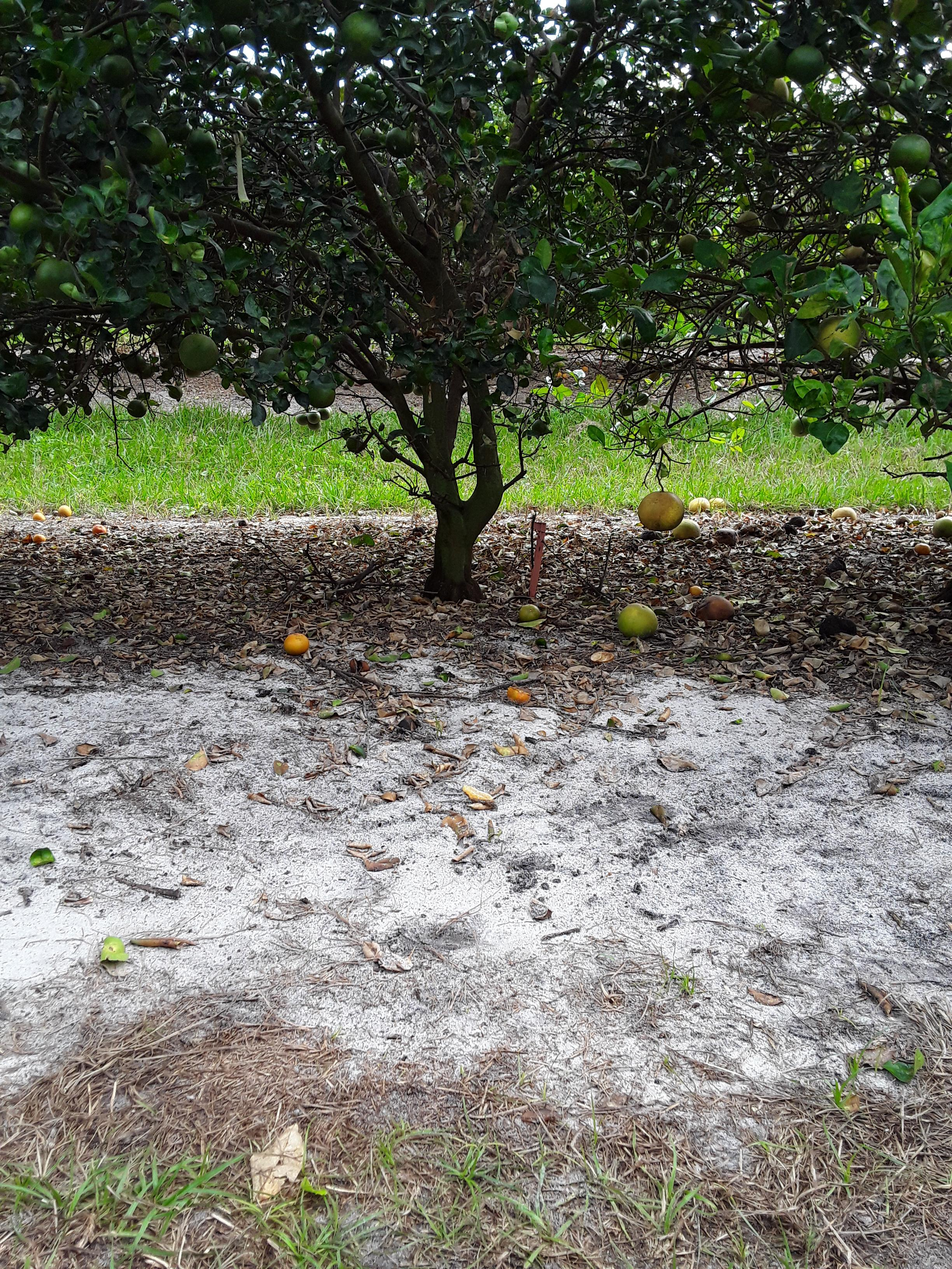fruit_on_ground: (340, 9, 388, 66), (115, 120, 173, 167), (816, 311, 866, 364), (635, 486, 690, 533), (98, 143, 146, 190), (785, 40, 831, 87), (744, 72, 789, 119), (3, 157, 50, 202), (889, 130, 934, 176), (34, 253, 79, 299), (172, 333, 226, 371), (9, 196, 51, 238), (903, 172, 944, 210), (99, 54, 136, 92), (185, 125, 221, 164), (756, 37, 791, 77), (299, 374, 338, 406), (759, 201, 800, 229), (256, 346, 298, 373), (385, 126, 417, 159), (835, 238, 873, 264), (729, 209, 762, 237), (499, 57, 530, 86), (214, 21, 246, 49), (847, 222, 880, 249), (631, 0, 667, 23), (860, 78, 889, 106), (0, 75, 29, 102), (565, 0, 598, 23), (359, 123, 385, 150), (833, 129, 860, 155), (30, 353, 56, 379), (674, 231, 698, 257), (125, 397, 150, 421), (240, 93, 265, 117), (733, 28, 756, 54), (736, 299, 759, 325), (229, 338, 253, 362), (789, 414, 812, 439), (379, 440, 399, 466), (531, 416, 550, 437), (621, 195, 642, 214), (630, 245, 651, 264), (655, 358, 683, 372), (697, 223, 715, 242), (372, 353, 391, 370), (617, 333, 637, 349), (632, 393, 654, 407), (347, 437, 365, 454), (617, 402, 637, 417), (398, 375, 413, 395), (554, 225, 572, 241), (618, 185, 637, 199), (307, 409, 323, 424), (296, 410, 308, 428), (321, 402, 336, 416), (307, 418, 322, 431), (318, 406, 330, 422), (413, 382, 425, 397)
fruit_on_tree: (616, 600, 665, 641), (817, 611, 863, 648), (696, 593, 737, 625), (671, 513, 704, 544), (281, 629, 313, 658), (712, 524, 749, 549), (504, 685, 534, 709), (829, 505, 860, 526), (928, 513, 952, 540), (687, 496, 715, 514), (518, 603, 541, 623), (786, 510, 808, 530), (911, 541, 933, 561), (682, 582, 706, 600), (709, 488, 728, 510), (53, 504, 79, 520), (25, 529, 51, 545), (26, 510, 51, 526), (894, 515, 913, 530), (92, 522, 107, 538), (580, 364, 589, 373), (560, 372, 570, 379), (556, 371, 563, 379)
